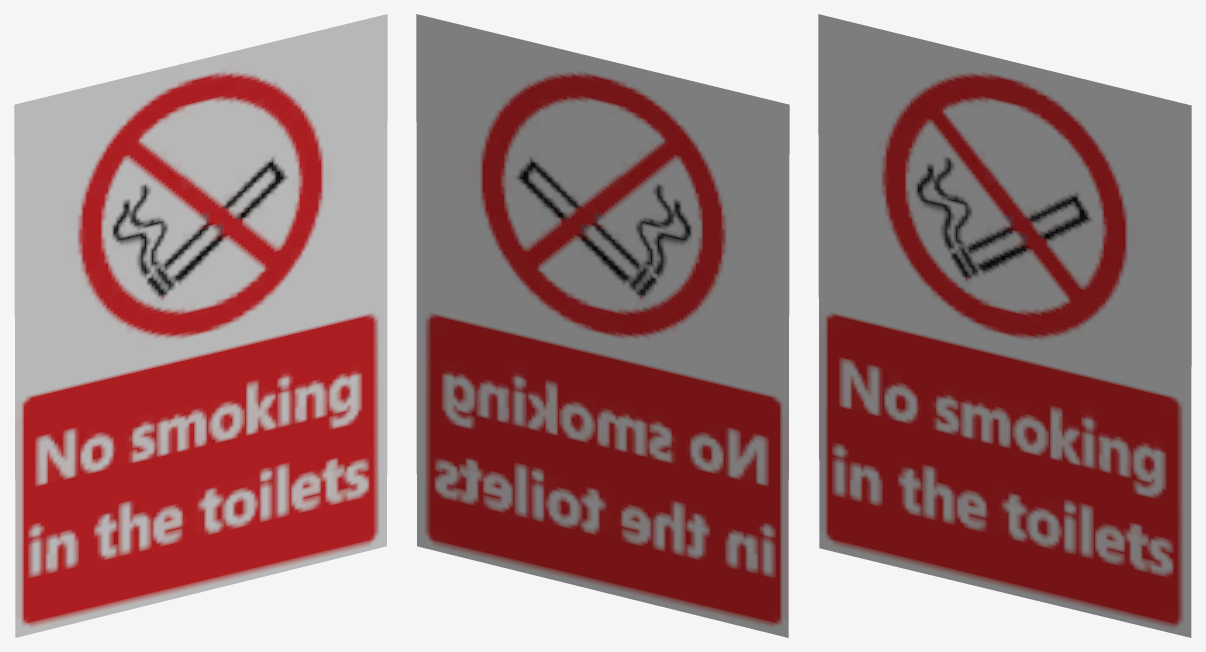
The model's file is SM_Sign_No_Smoking_02.glb.
The picture shows the model from 3 angles, left to right: view 1: azimuth 30°, elevation 25°; view 2: azimuth 150°, elevation 25°; view 3: azimuth 330°, elevation 25°; orthographic projection.
Visible parts, largest first — view 1: SM_Sign_No_Smoking_02; view 2: SM_Sign_No_Smoking_02; view 3: SM_Sign_No_Smoking_02.
Boxes of the visible parts, bbox=[...] form: SM_Sign_No_Smoking_02: bbox=[14, 14, 387, 637]; SM_Sign_No_Smoking_02: bbox=[416, 14, 789, 637]; SM_Sign_No_Smoking_02: bbox=[818, 14, 1191, 637].
Bounding box in the file's own units: 0.2414 × 0.3298 × 5.36e-08.
Materials: 1 (1 with a texture image).
